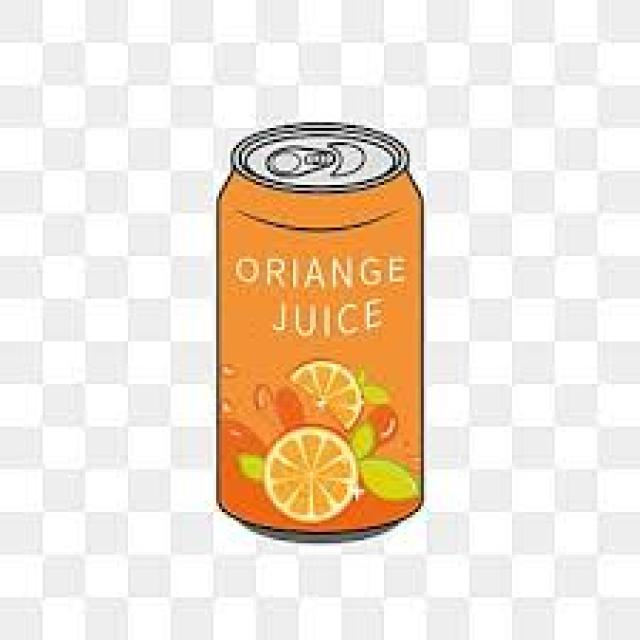Cans: (208, 105, 441, 549)
